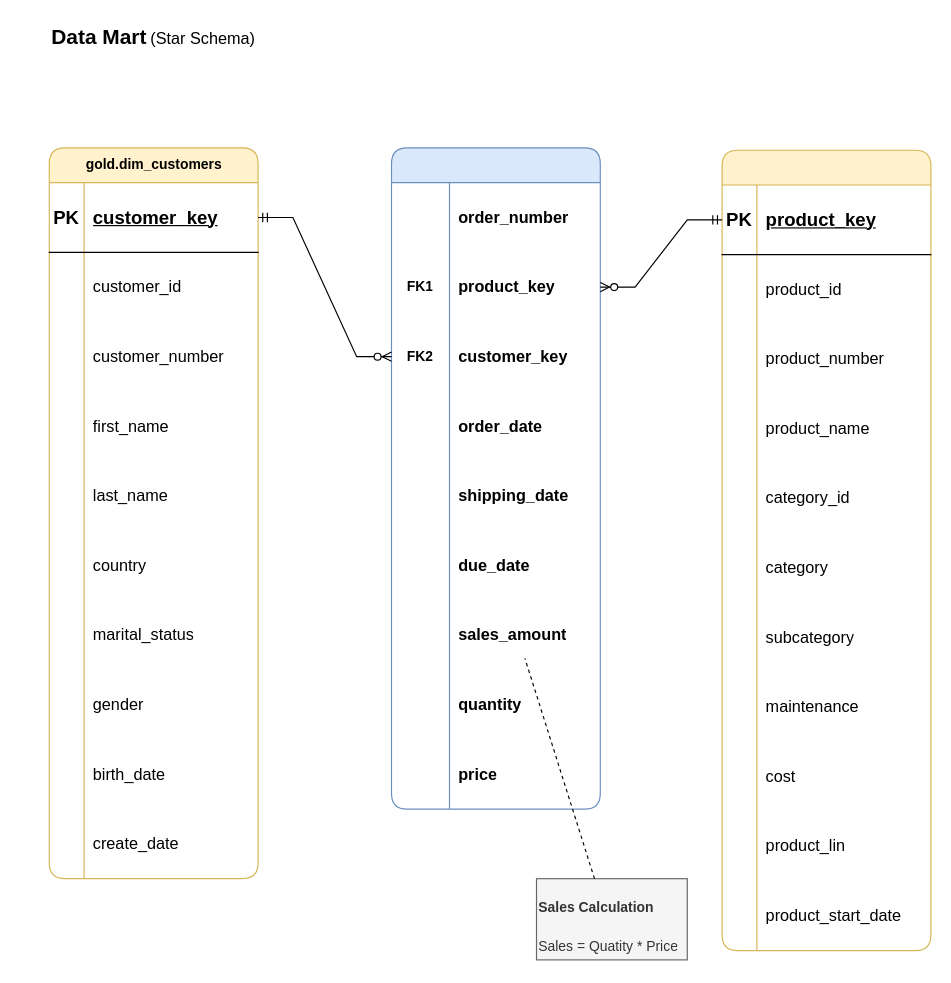
The diagram is 951 pixels wide and 983 high, and some of its shapes have lost their labels. The shapes that lost their labels are listed below. From the top down, each one's box as (x1, y1, x2, y2) in pixels, then its label:
(390, 147, 600, 809): gold.fact_sales
(721, 149, 931, 951): gold.dim_products
